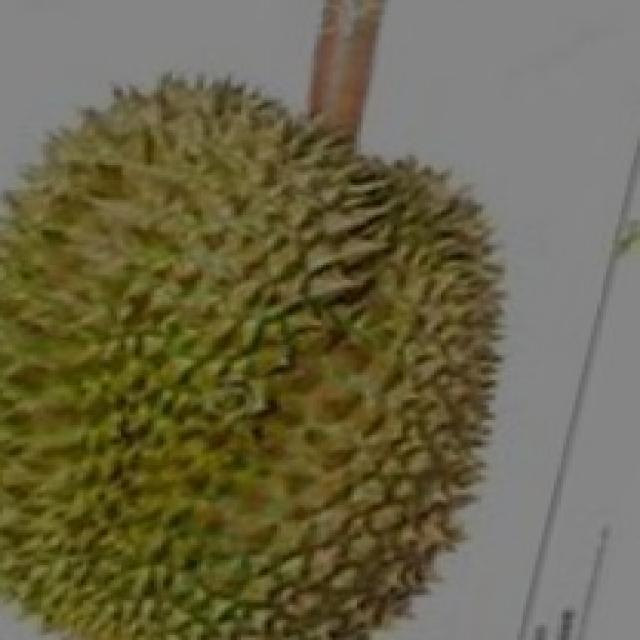fruit: (209, 245, 569, 640), (3, 280, 329, 640)
